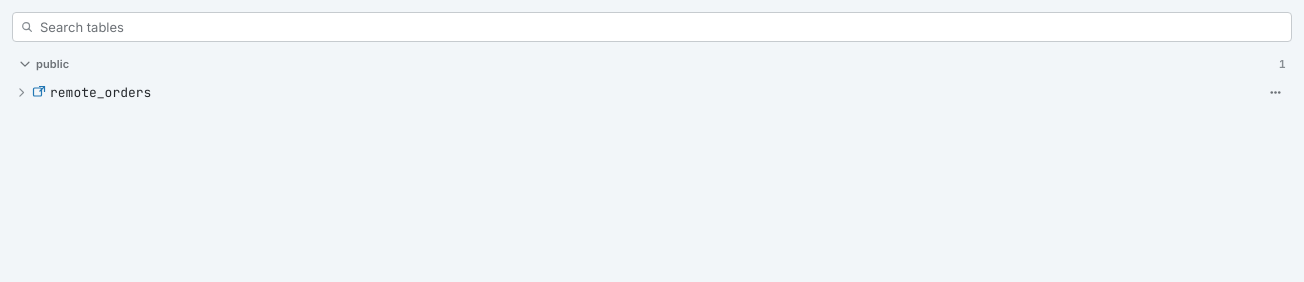
Test case: TableList › disables Truncate for foreign tables
This screenshot has width=1304, height=282.
Click the button named "Table actions". click: (1275, 92)
box: [1262,79,1288,105]
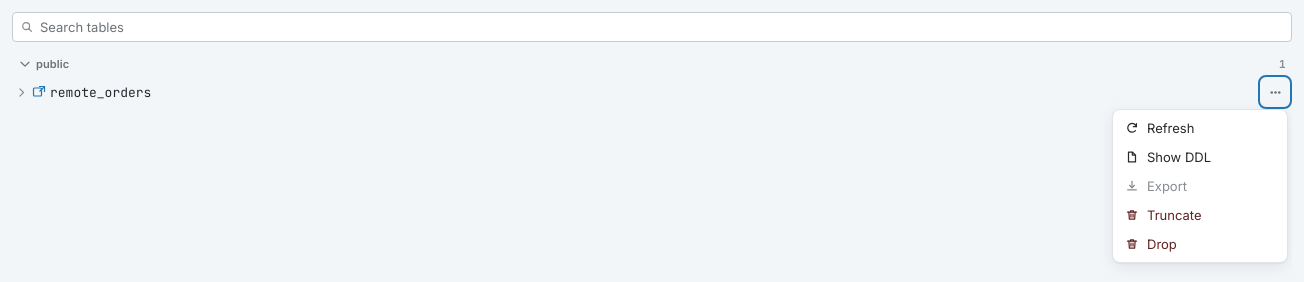
Expected: the menu item "Truncate" is disabled, [1117,201,1283,229]
Expected: the menu item "Drop" is enabled, [1117,230,1283,258]
